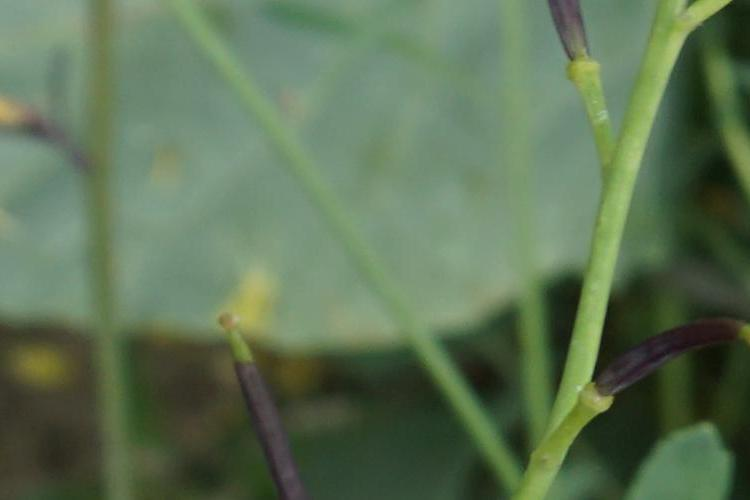pod: (552, 306, 747, 419), (215, 303, 304, 499), (526, 4, 602, 90)
